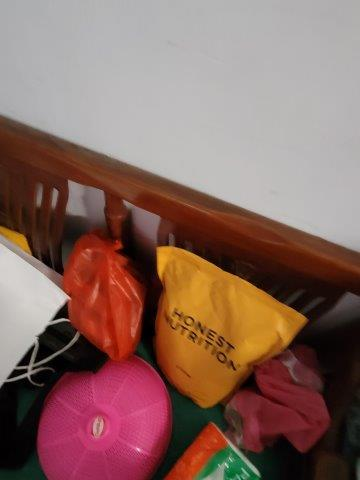plastik: (67, 232, 143, 358)
